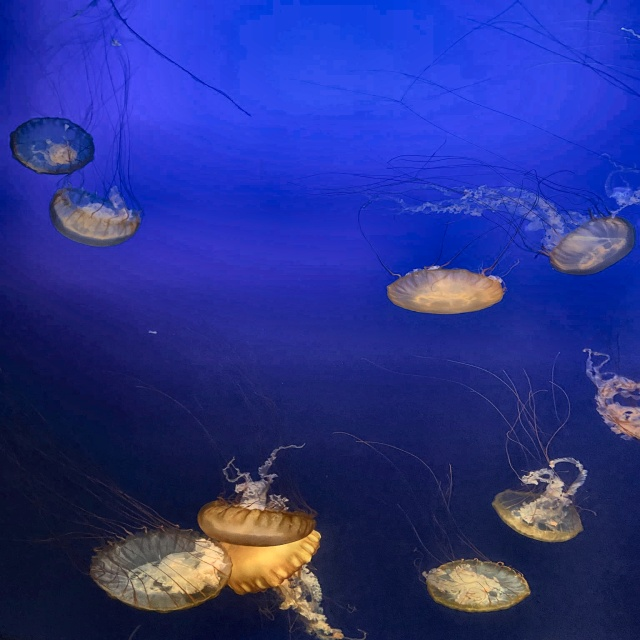jellyfish: (81, 522, 227, 612), (487, 479, 590, 550), (216, 528, 321, 592), (419, 558, 531, 618), (527, 211, 627, 277), (2, 116, 102, 175), (386, 266, 504, 315), (48, 185, 137, 247), (204, 498, 313, 543)
